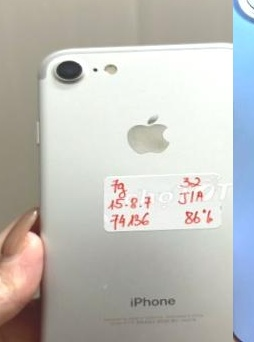scratch: (98, 275, 114, 293)
